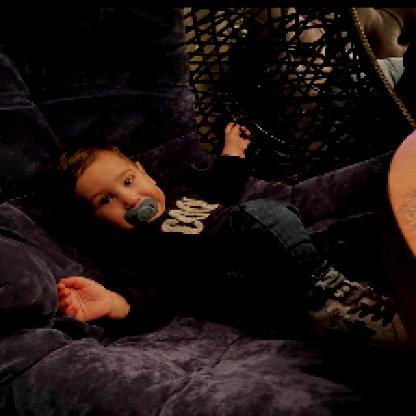child: (42, 121, 414, 353)
